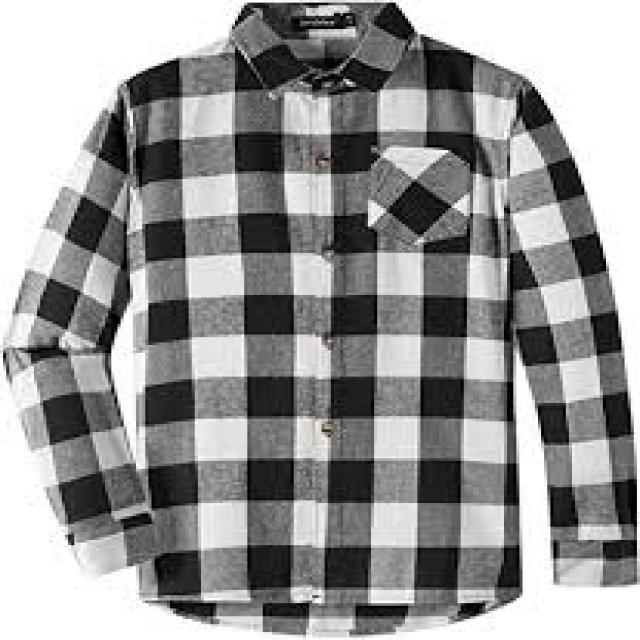plaid: (15, 12, 640, 629)
